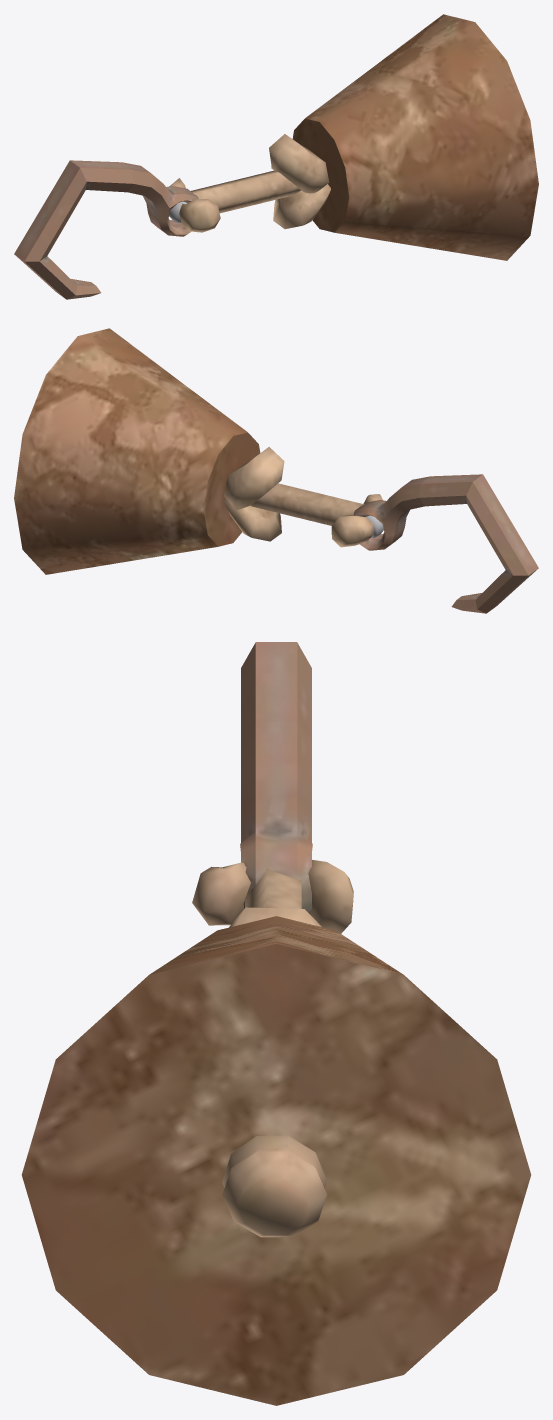
3 views of the same model, one above another, from view 1: azimuth 30°, elevation 25°; view 2: azimuth 150°, elevation 25°; view 3: azimuth 270°, elevation 25° (orthographic). The views are drawn at different scales.
Visible parts, largest first — view 1: SM_Fishing_Rod_Float_01_LOD0; view 2: SM_Fishing_Rod_Float_01_LOD0; view 3: SM_Fishing_Rod_Float_01_LOD0.
Boxes of the visible parts, bbox=[...] form: SM_Fishing_Rod_Float_01_LOD0: bbox=[14, 14, 538, 299]; SM_Fishing_Rod_Float_01_LOD0: bbox=[14, 328, 538, 613]; SM_Fishing_Rod_Float_01_LOD0: bbox=[21, 642, 531, 1405].
Bounding box in the file's own units: 0.2014 × 0.0909 × 0.0909.
Materials: 1 (1 with a texture image).
